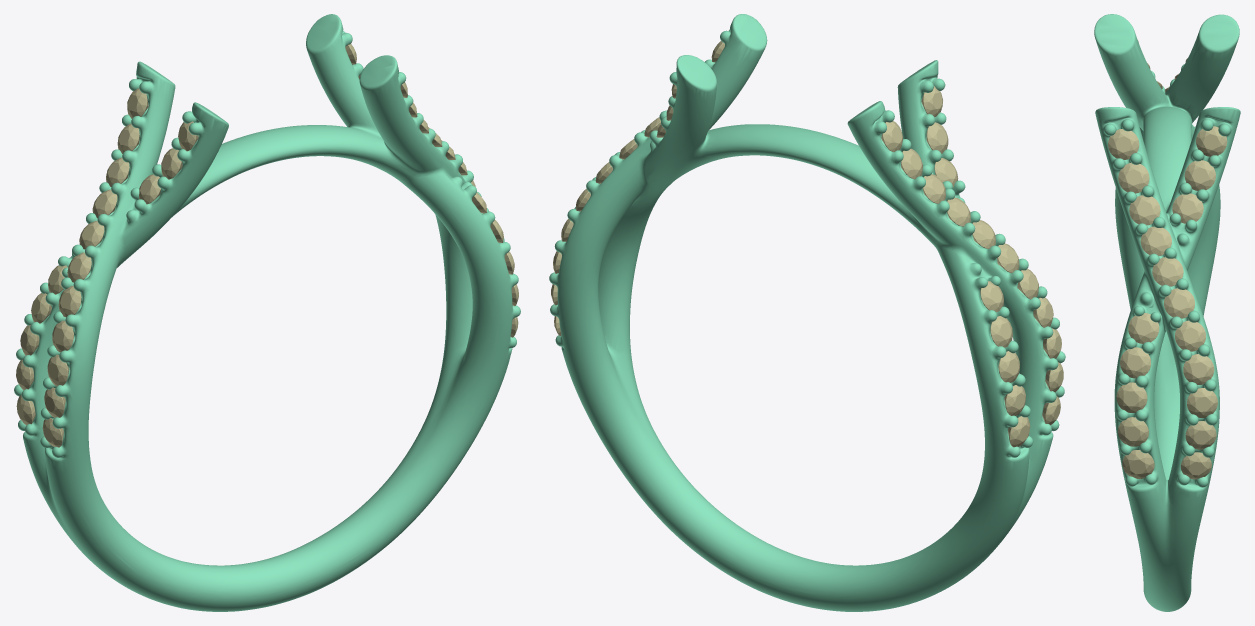
3 renders of one model, left to right at view 1: azimuth 30°, elevation 25°; view 2: azimuth 150°, elevation 25°; view 3: azimuth 270°, elevation 25°, orthographic. The views are drawn at different scales.
Visible parts, largest first — view 1: Metal02; view 2: Metal02; view 3: Metal02, Diamond_Gem.011, Diamond_Gem.014, Diamond_Gem.009, Diamond_Gem.015, Diamond_Gem.001, Diamond_Gem.008, Diamond_Gem.002, Diamond_Gem, Diamond_Gem.017, Diamond_Gem.010, Diamond_Gem.013 (+8 smaller).
Boxes of the visible parts, <box> form: Metal02: <box>14,14,520,611</box>; Metal02: <box>549,14,1065,611</box>; Metal02: <box>1094,14,1240,611</box>; Diamond_Gem.011: <box>1184,160,1215,190</box>; Diamond_Gem.014: <box>1120,347,1150,378</box>; Diamond_Gem.009: <box>1118,163,1149,193</box>; Diamond_Gem.015: <box>1116,382,1147,412</box>; Diamond_Gem.001: <box>1175,320,1205,351</box>; Diamond_Gem.008: <box>1108,129,1139,159</box>; Diamond_Gem.002: <box>1183,354,1214,384</box>; Diamond_Gem: <box>1164,288,1194,318</box>; Diamond_Gem.017: <box>1122,450,1154,478</box>; Diamond_Gem.010: <box>1129,195,1160,225</box>; Diamond_Gem.013: <box>1128,313,1159,343</box>.
Bounding box in the file's own units: 21.27 × 23.3 × 5.86.
